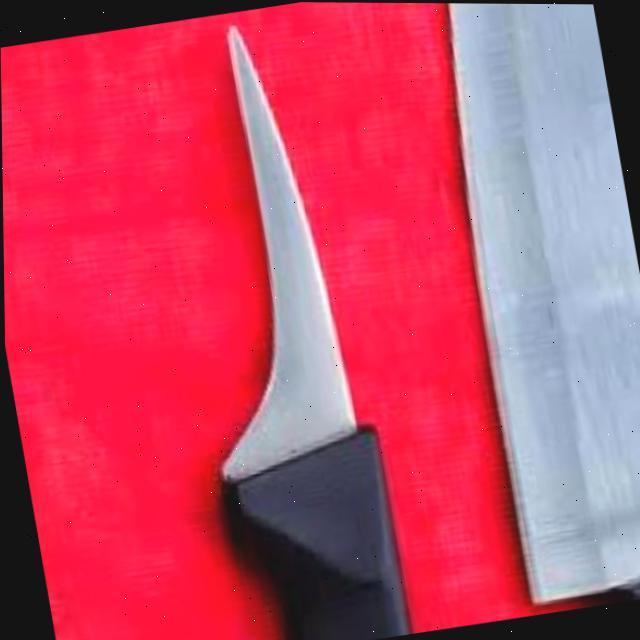knife: (146, 13, 412, 640)
